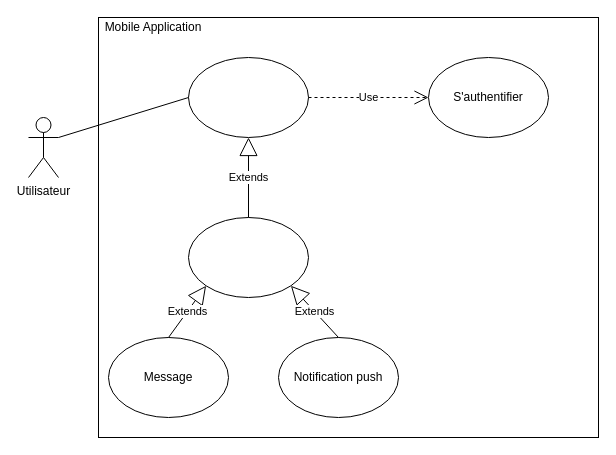
This 616x455 diagram has some shape labels left out. Here are the shapes that lost their labels. From the top down, the centre of each, then its label:
(248,97): Suivre ses prêts
(248,257): Être notifié
